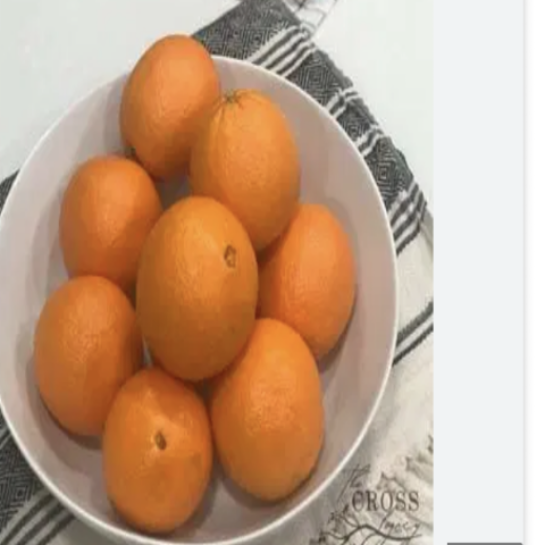orange: (132, 191, 263, 379), (235, 184, 378, 350), (204, 308, 324, 503), (96, 348, 213, 536), (15, 269, 146, 434), (116, 27, 228, 172)
